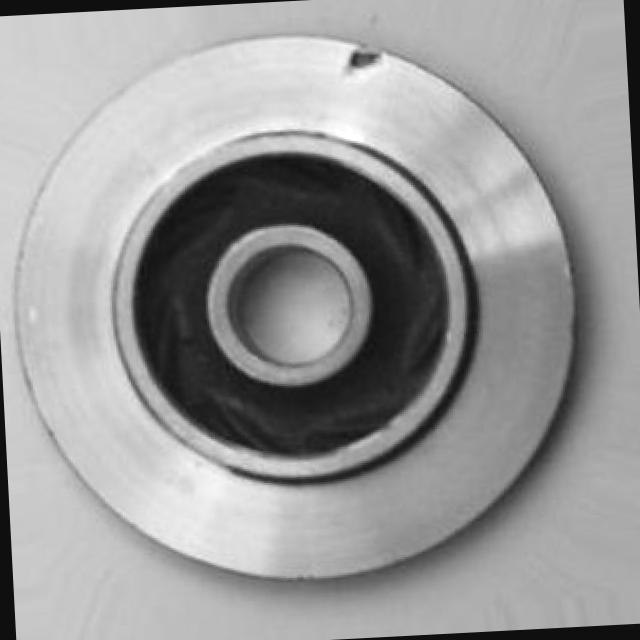Defect: (350, 46, 380, 76)
